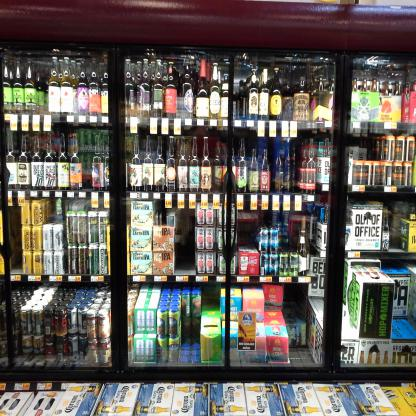Void: (175, 211, 194, 276), (11, 207, 20, 271), (389, 203, 402, 247), (286, 283, 303, 311), (289, 344, 313, 362), (46, 200, 66, 221), (202, 284, 220, 307)
